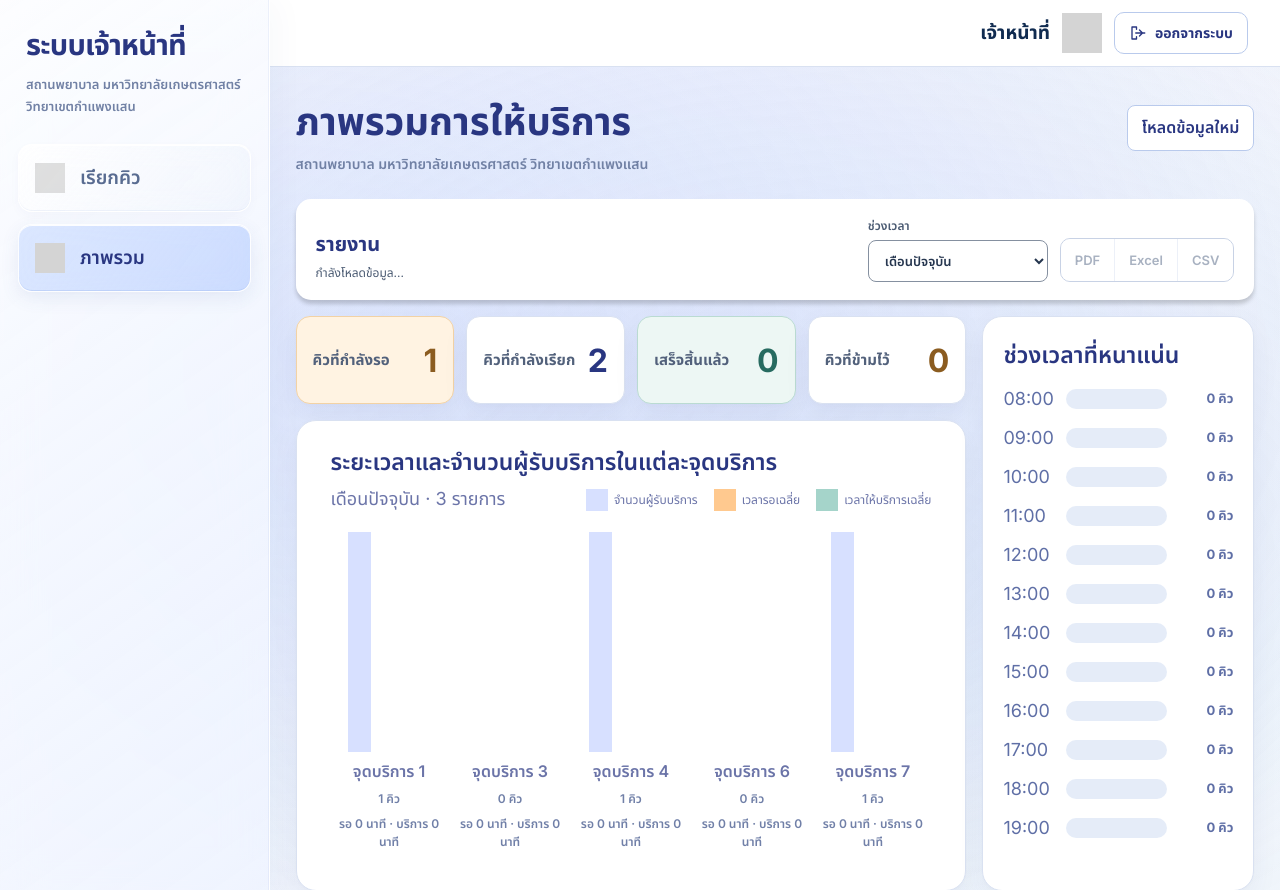
Test case: application routes › validates a custom report date range
This screenshot has width=1280, height=890.
Select "กำหนดช่วงวันที่" in the dropdown labelled "ช่วงเวลา" at (958, 261), box [868,240,1048,282]
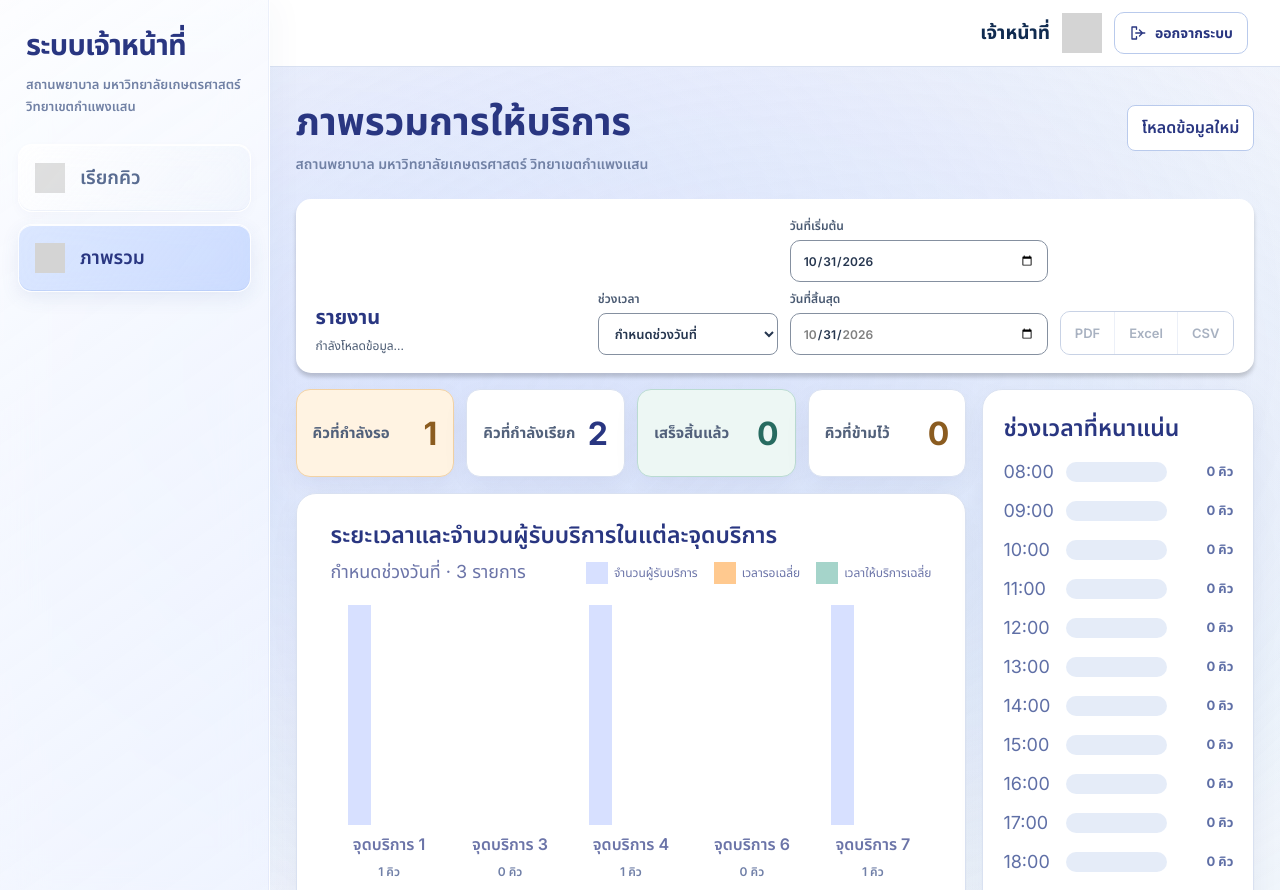
Type "2026-10-25" into the date field labelled "วันที่เริ่มต้น" at (919, 261), box [790,240,1048,282]
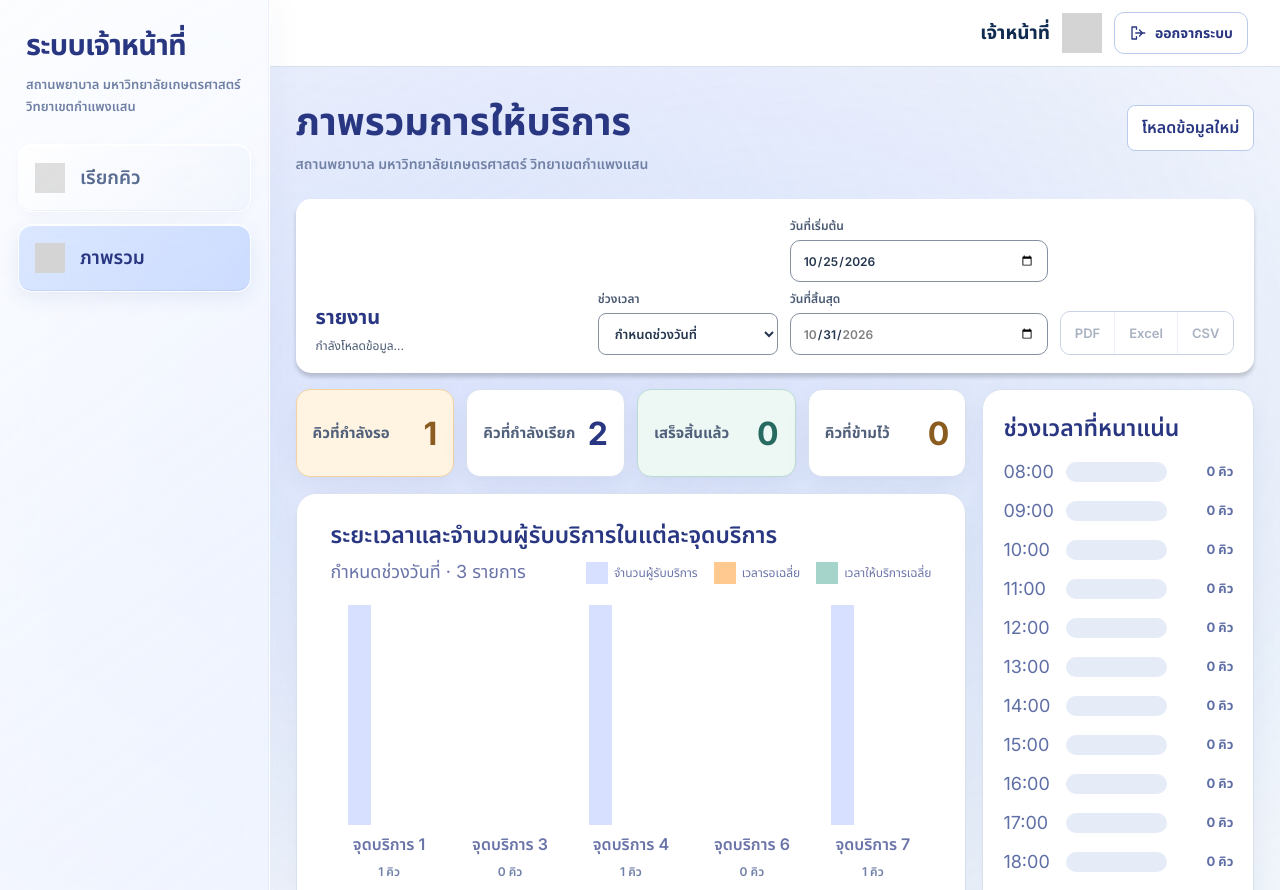
Type "2026-10-01" into the date field labelled "วันที่สิ้นสุด" at (919, 334), box [790,313,1048,355]
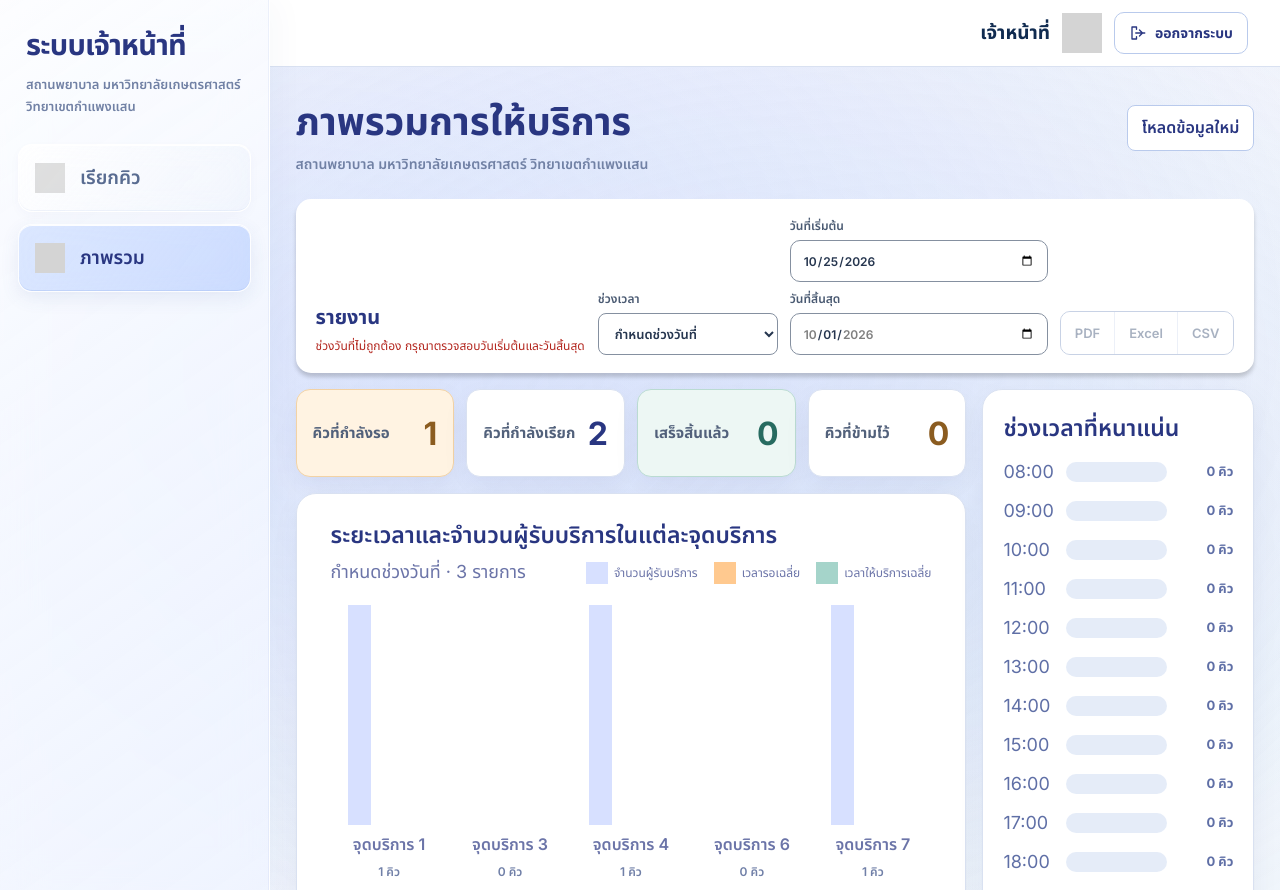
Expected: the text "ช่วงวันที่ไม่ถูกต้อง" is shown, [316,338,585,353]
